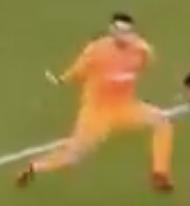goalkeeper: (10, 6, 190, 206)
